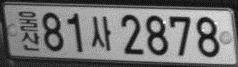1: (65, 12, 87, 53)
2: (120, 13, 143, 54)
7: (169, 15, 191, 56)
8: (144, 14, 168, 55), (195, 16, 219, 57), (41, 11, 64, 52)
사: (91, 15, 111, 50)
울산_V: (18, 10, 39, 51)
